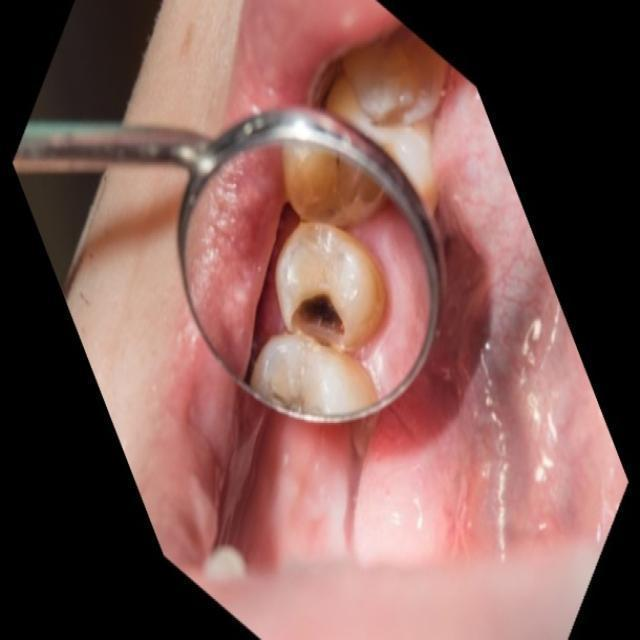Cavity: (256, 136, 394, 229), (247, 331, 387, 419), (281, 229, 386, 340)
